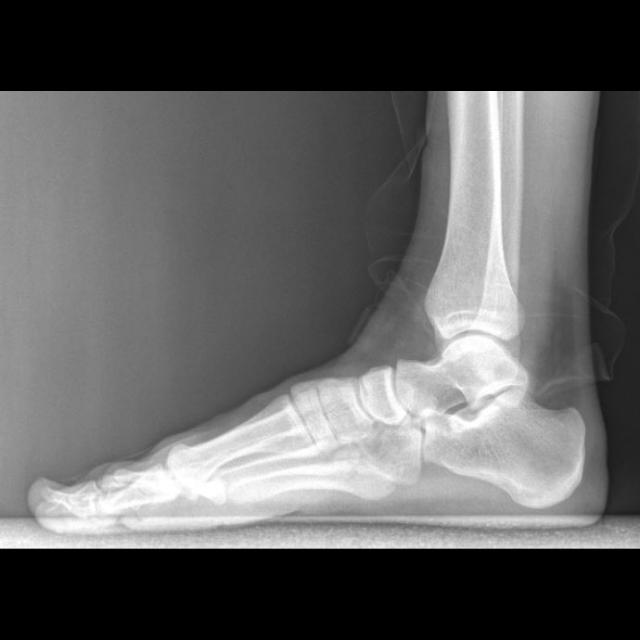a: (417, 386, 586, 509)
b: (357, 365, 408, 424)
c: (168, 394, 317, 488)
